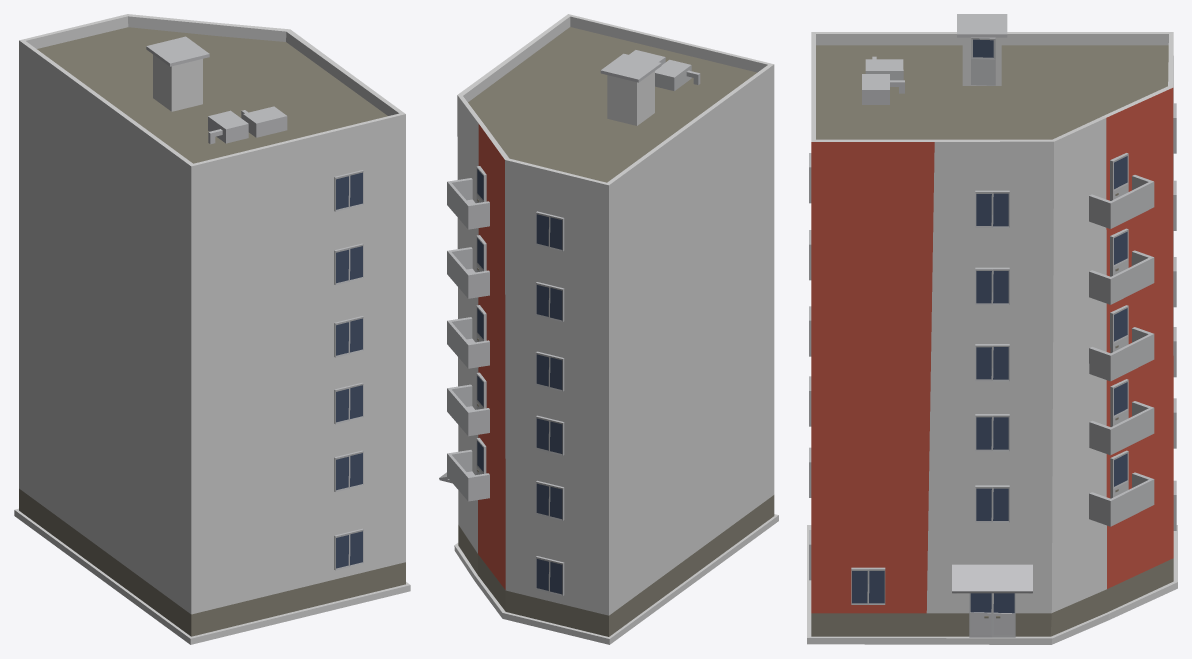
Rendered from apart1.gltf.
3 renders of one model, left to right at view 1: azimuth 30°, elevation 25°; view 2: azimuth 150°, elevation 25°; view 3: azimuth 270°, elevation 25°, orthographic. The views are drawn at different scales.
Visible parts, largest first — view 1: Cube.004; view 2: Cube.004; view 3: Cube.004.
Boxes of the visible parts, left/top/right/bottom form: Cube.004: left=14, top=14, right=410, bottom=644; Cube.004: left=439, top=14, right=778, bottom=644; Cube.004: left=807, top=14, right=1177, bottom=644.
Bounding box in the file's own units: 1.77 × 3.54 × 2.19.
